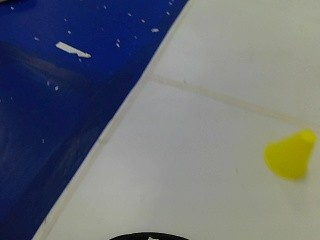cone: (258, 122, 318, 186)
